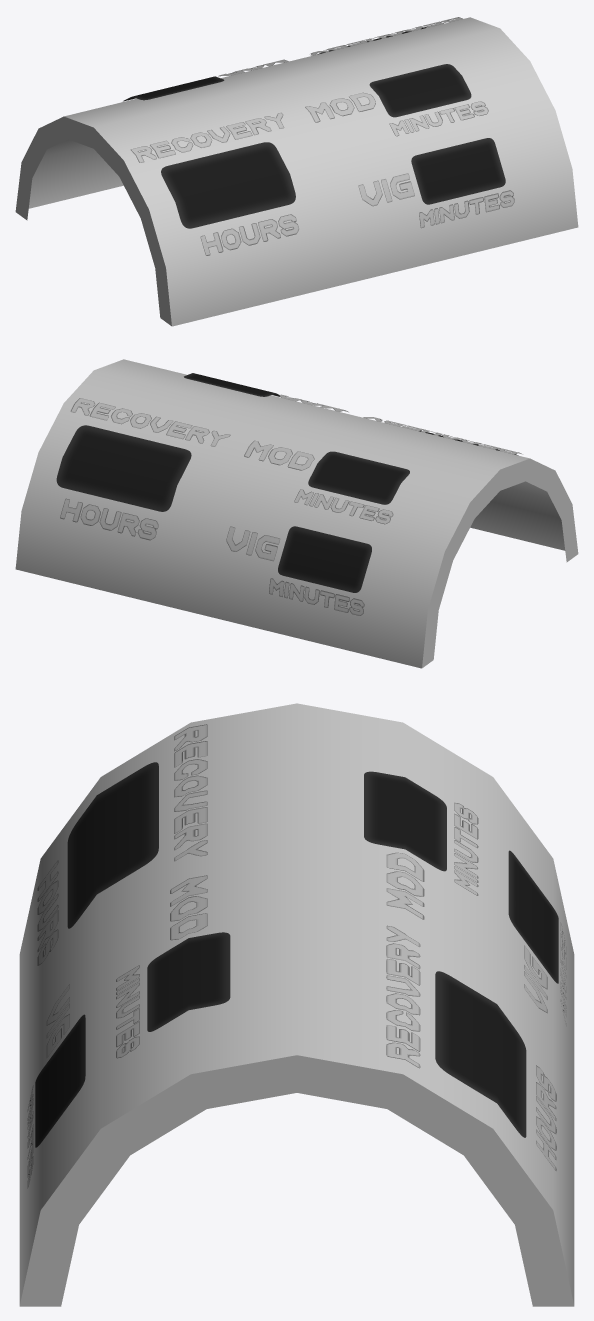
Rendered from Arm - HR Only.fbx.
3 views of the same model, one above another, from view 1: azimuth 30°, elevation 25°; view 2: azimuth 150°, elevation 25°; view 3: azimuth 270°, elevation 25° (orthographic). The views are drawn at different scales.
Visible parts, largest first — view 1: Arm Info; view 2: Arm Info; view 3: Arm Info.
Part boxes in pixels (bbox=[...]): Arm Info: bbox=[15, 17, 578, 326]; Arm Info: bbox=[15, 359, 578, 668]; Arm Info: bbox=[19, 703, 574, 1306].
Size of the model in its own units: 0.6 by 0.204 by 0.408.
